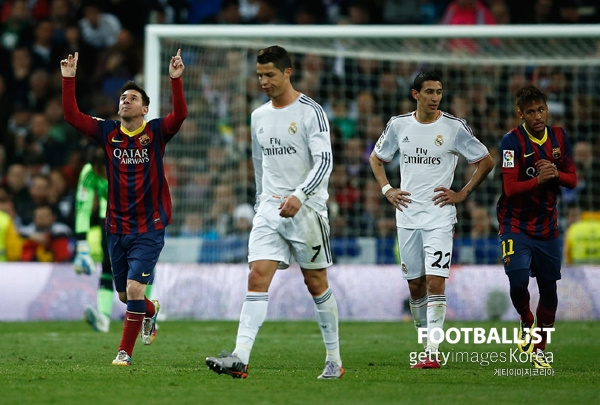barcelona: (46, 46, 186, 371), (489, 86, 567, 376)
realmadrid: (216, 44, 355, 388), (361, 69, 496, 377)
